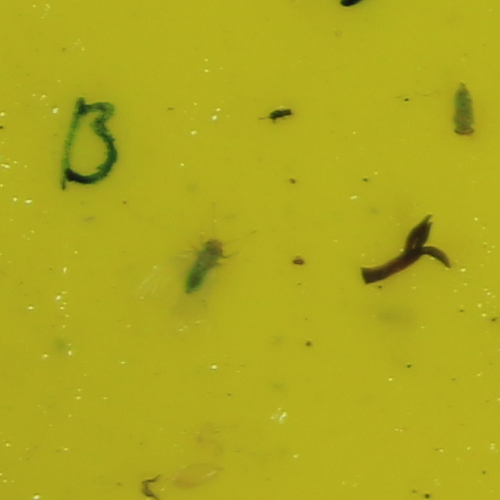psylla: (181, 237, 231, 294), (448, 81, 481, 140)
